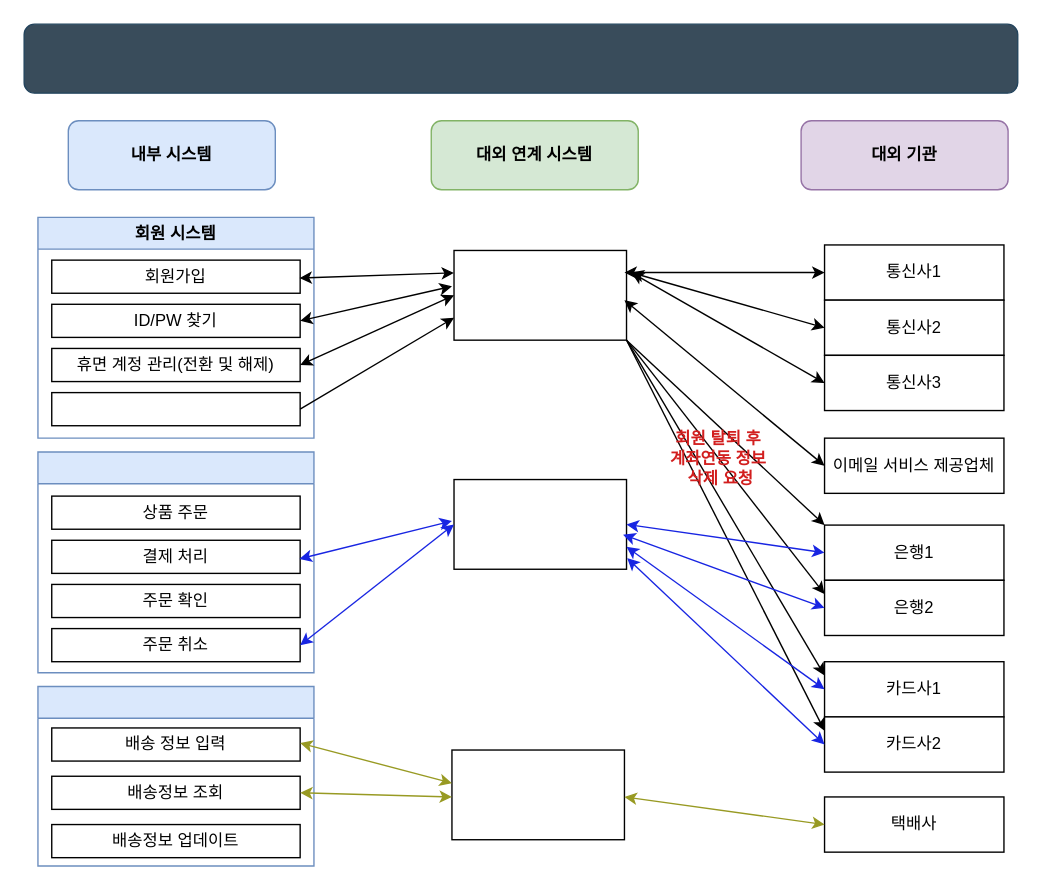
Some shapes in this 1042 by 890 pixel diagram are drawn without their labels. The box of each missing label's shape, as (x1, y1, x2, y2) in pixels:
내부 시스템과 대외 기관에 따른 연계 업무 흐름도: (23, 23, 1018, 93)
배송 시스템: (37, 685, 314, 866)
사용자 인증 시스템: (453, 249, 627, 340)
이니시스 결제 시스템: (453, 478, 627, 569)
주문 시스템: (37, 451, 314, 673)
택배사 시스템: (451, 749, 624, 840)
회원탈퇴: (50, 391, 300, 426)
